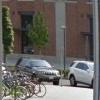Bicycle: (1, 61, 48, 99)
